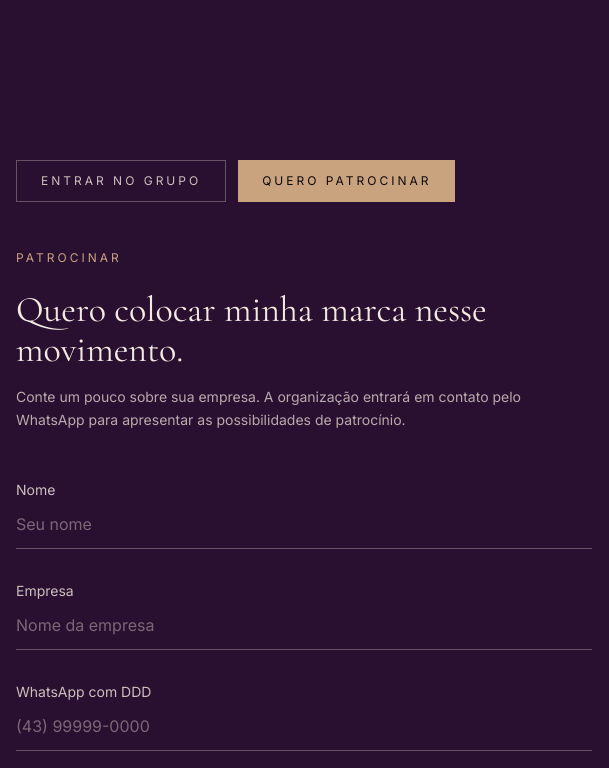
Test: Interesse › confirma um pedido duplicado sem registrar outro lead
This screenshot has width=609, height=768.
Type "Ana" into the field labelled "Nome" at (304, 524), box [16,500,592,548]
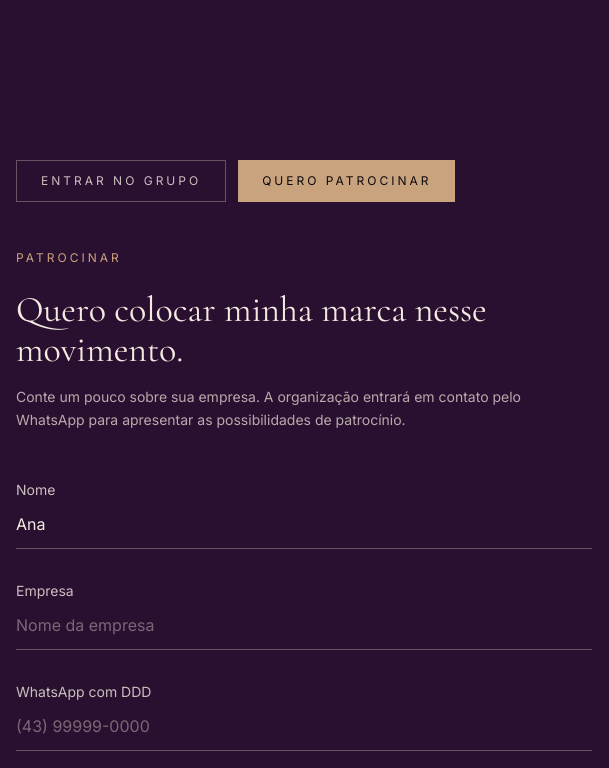
Type "Decol" into the field labelled "Empresa" at (304, 625), box [16,600,592,650]
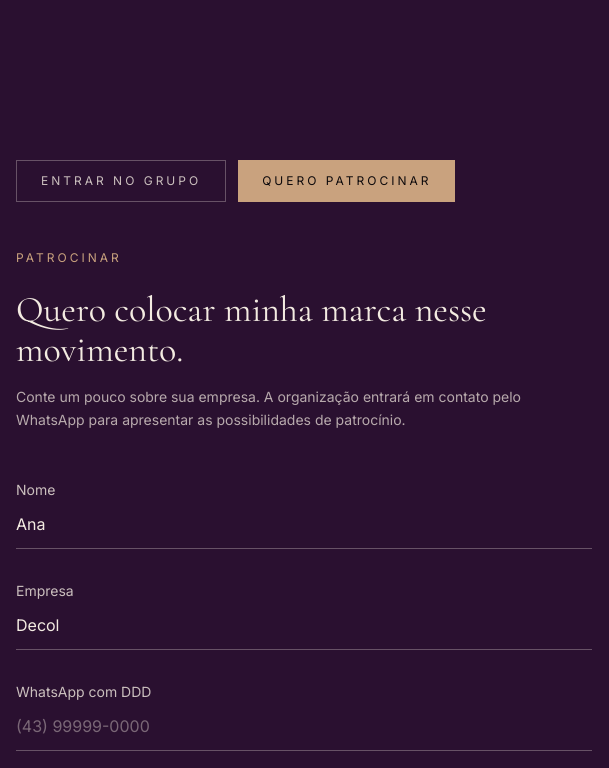
Type "43999990000" into the field labelled "WhatsApp com DDD" at (304, 726), box [16,702,592,750]
(page scrolled)
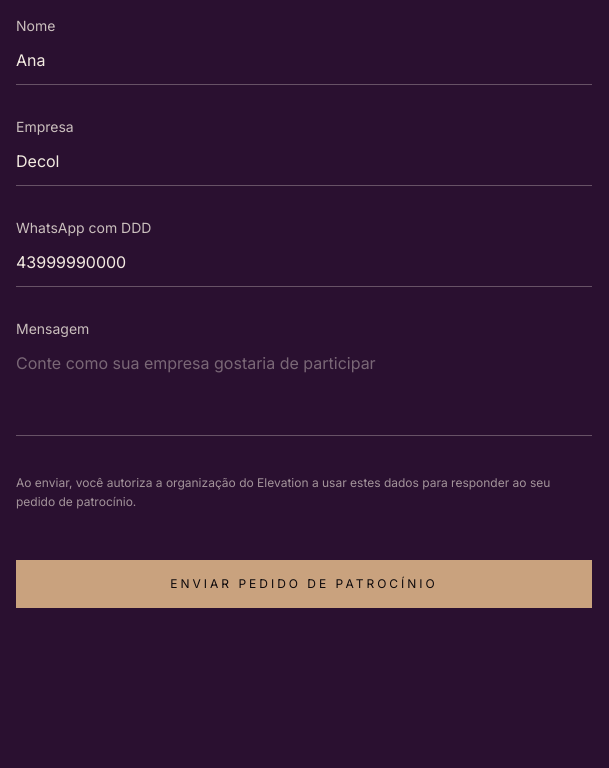
Type "Quero conhecer as cotas." into the text box labelled "Mensagem" at (304, 387), box [16,338,592,436]
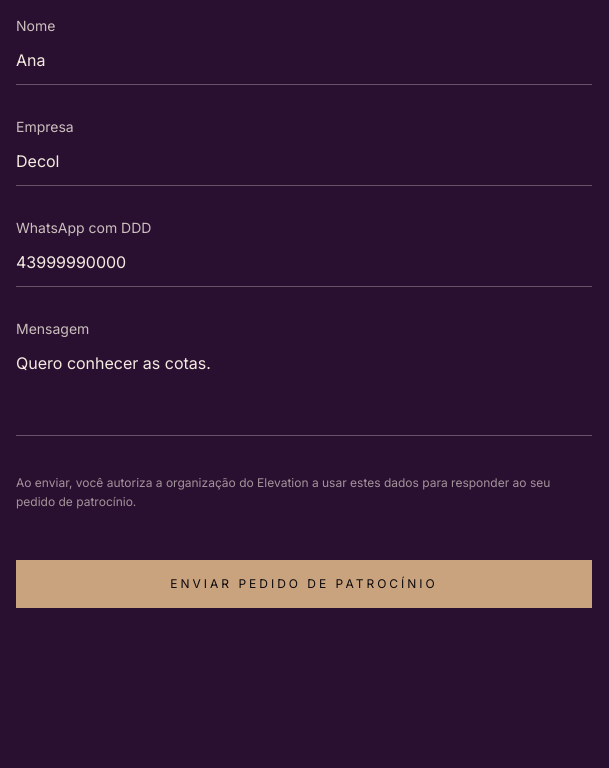
Submit the form
(page scrolled)
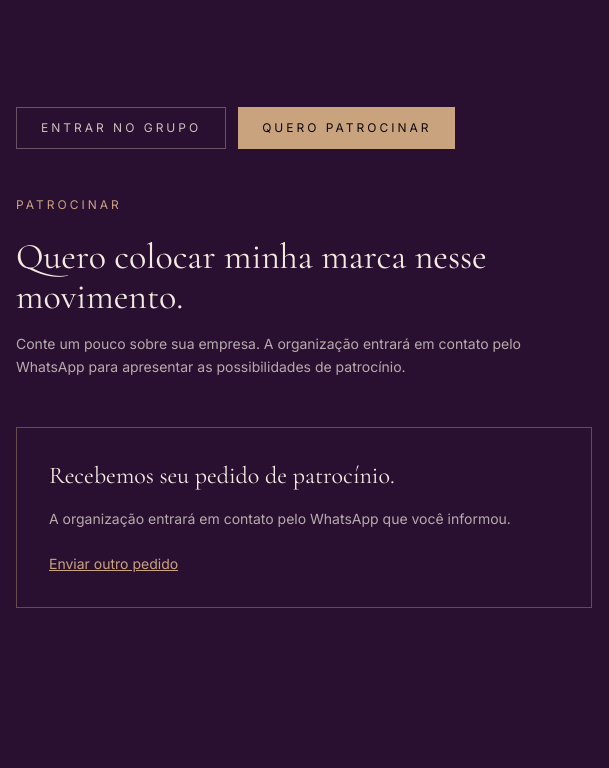
expect the message is shown: met, box [16,426,592,608]
